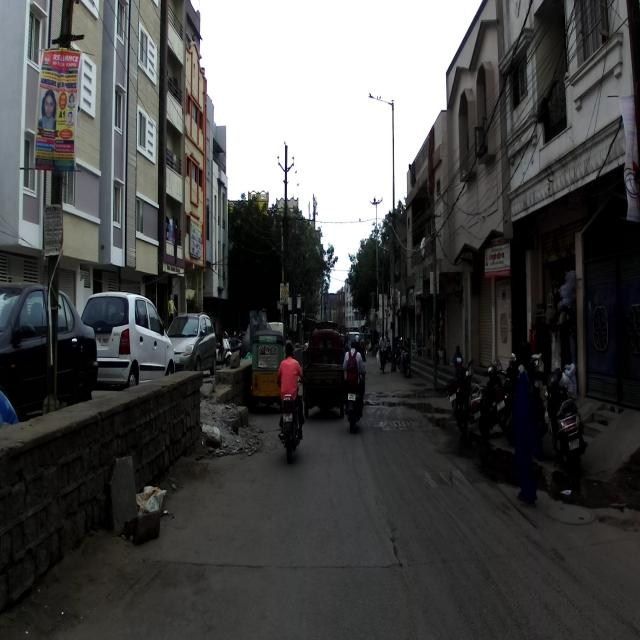car: (0, 279, 98, 427), (79, 290, 175, 390), (167, 310, 215, 374)
motorcycle: (276, 374, 305, 464), (446, 357, 474, 433)
scooter: (544, 366, 586, 475), (468, 359, 502, 440)
